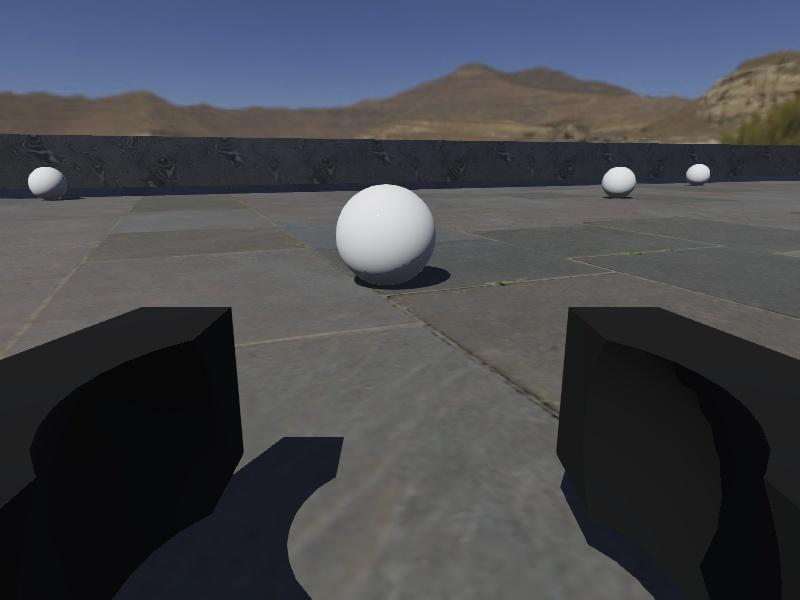white ball: (335, 183, 437, 288), (28, 166, 68, 202), (602, 165, 638, 196), (686, 162, 712, 186)
